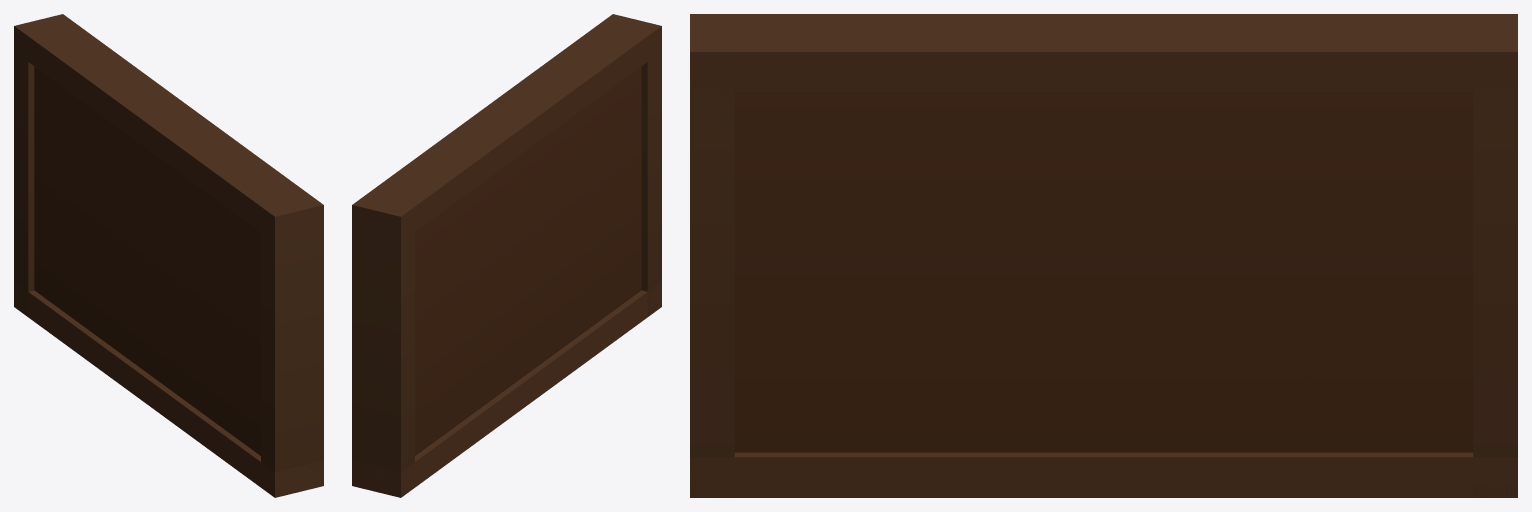
File: hill_sword_shop_low.glb
The picture shows the model from 3 angles, left to right: view 1: azimuth 30°, elevation 25°; view 2: azimuth 150°, elevation 25°; view 3: azimuth 270°, elevation 25°; orthographic projection. The views are drawn at different scales.
Visible parts, largest first — view 1: sign_swords; view 2: sign_swords; view 3: sign_swords.
Boxes of the visible parts, x1,y1,x2,y2 form: sign_swords: [14, 14, 323, 497]; sign_swords: [352, 14, 661, 497]; sign_swords: [690, 14, 1517, 497].
Size of what is drawn, in the model's own units: 0.1601 by 0.88 by 1.48.
